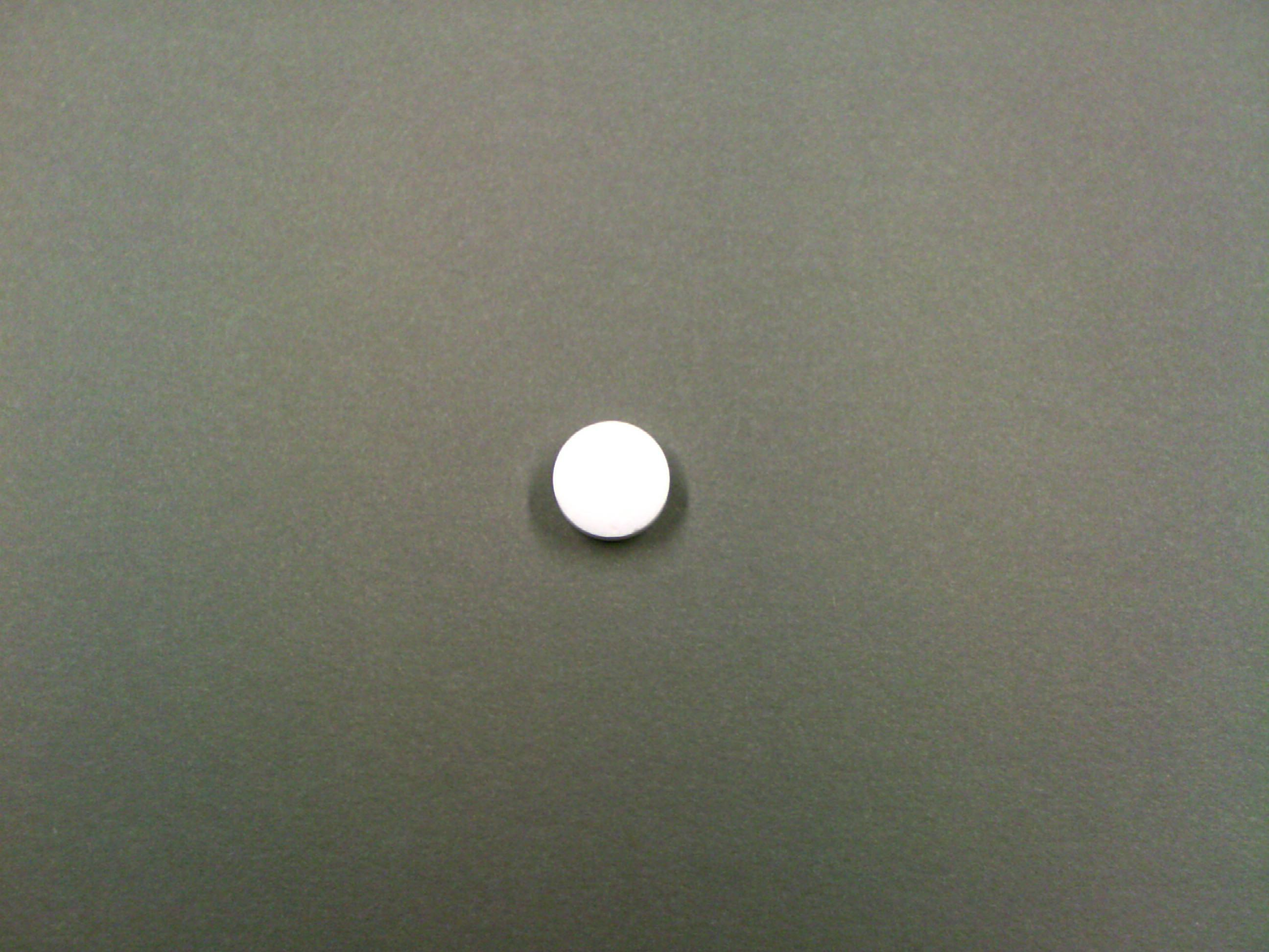Pill: (545, 413, 681, 545)
